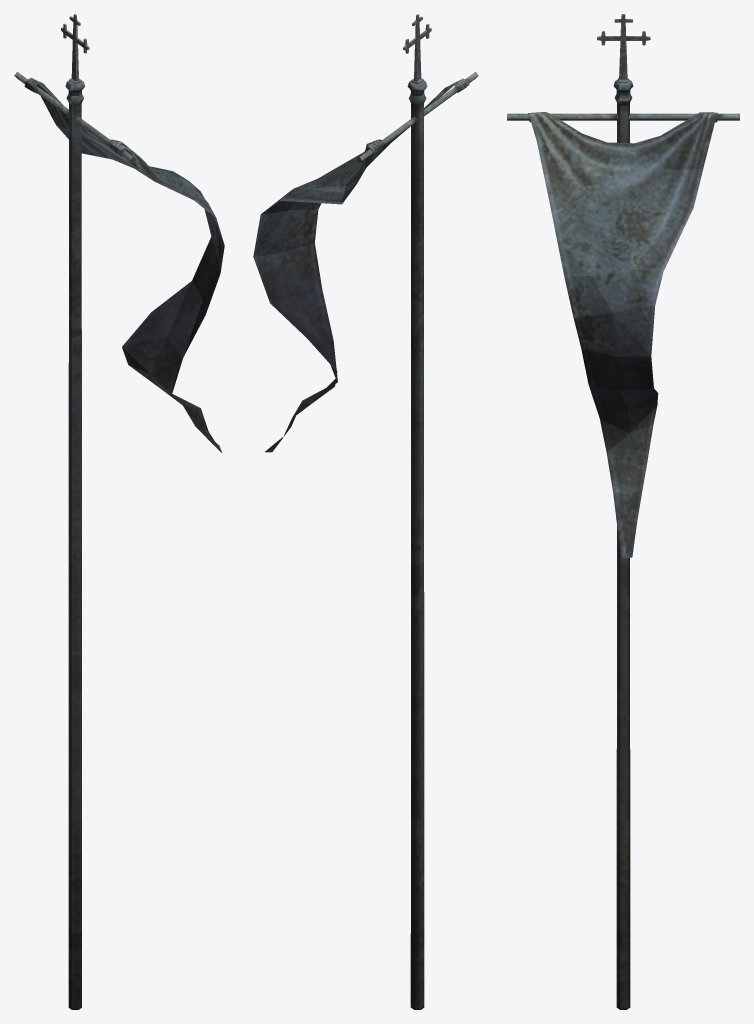
Rendered from bg_lut_lucastle_herostatue14a_sm_artree.FBX.
The picture shows the model from 3 angles, left to right: view 1: azimuth 30°, elevation 25°; view 2: azimuth 150°, elevation 25°; view 3: azimuth 270°, elevation 25°; orthographic projection.
Visible parts, largest first — view 1: bg_lut_lucastle_herostatue14a_sm_artree; view 2: bg_lut_lucastle_herostatue14a_sm_artree; view 3: bg_lut_lucastle_herostatue14a_sm_artree.
Boxes of the visible parts, x1,y1,x2,y2 form: bg_lut_lucastle_herostatue14a_sm_artree: (14,14,224,1009); bg_lut_lucastle_herostatue14a_sm_artree: (253,14,478,1009); bg_lut_lucastle_herostatue14a_sm_artree: (507,14,739,1009).
Bounding box in the file's own units: 76.93 × 462 × 98.22.
